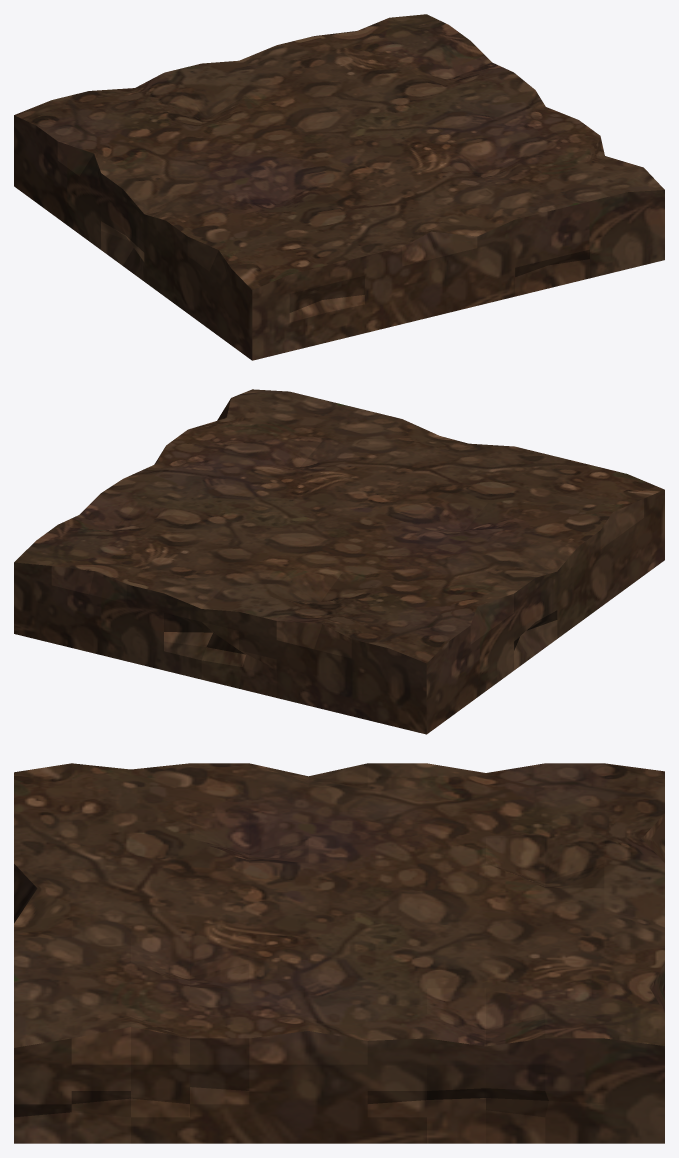
File: dirtTile.fbx
3 renders of one model, top to bottom at view 1: azimuth 30°, elevation 25°; view 2: azimuth 150°, elevation 25°; view 3: azimuth 270°, elevation 25°, orthographic. The views are drawn at different scales.
Visible parts, largest first — view 1: Dirt; view 2: Dirt; view 3: Dirt.
Part boxes in pixels (<box>): Dirt: <box>14,14,664,360</box>; Dirt: <box>14,389,664,734</box>; Dirt: <box>14,763,664,1143</box>.
Size of the model in its own units: 325 by 57.97 by 325.
1 material, 1 textured.
